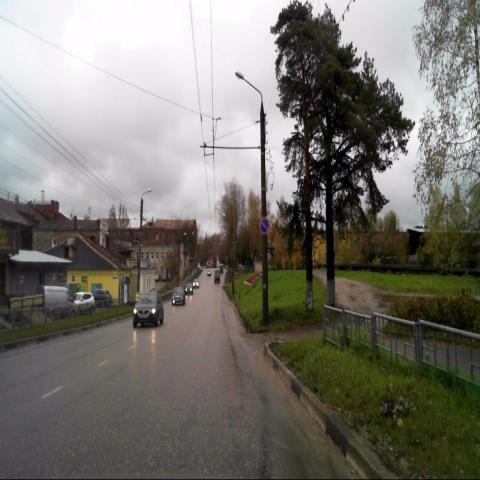3_28: (259, 216, 270, 236)
